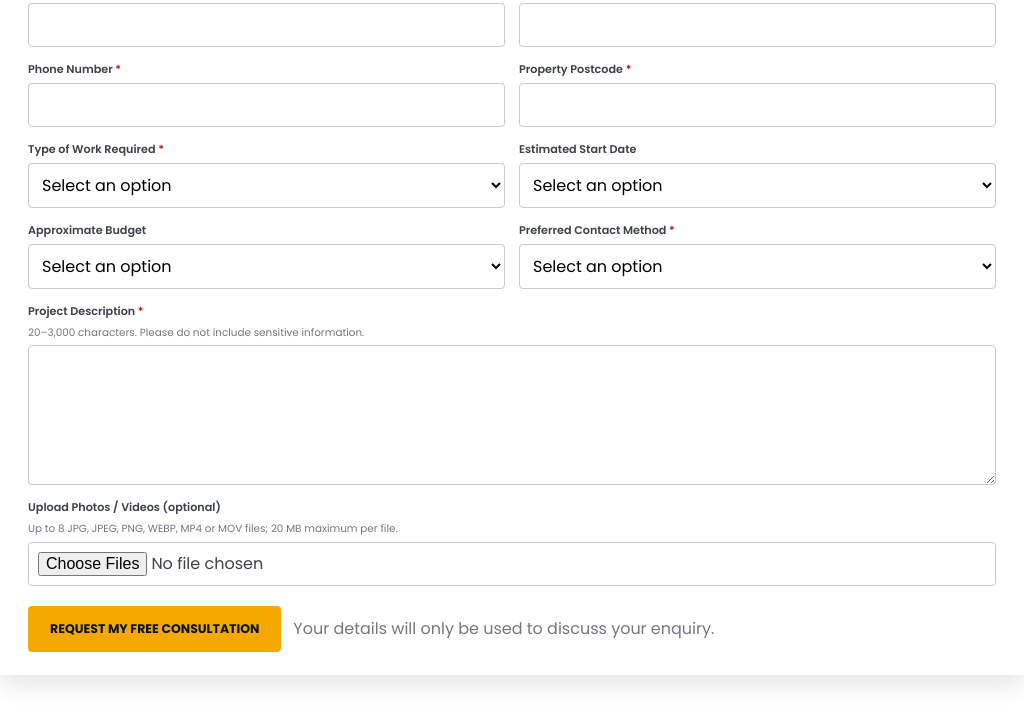
Test: accessible form submission › announces errors
(page scrolled)
What coordinates should you click on to do the following:
click the button
I would click on:
 (155, 629)
Its box is [28,606,281,652].
(page scrolled)
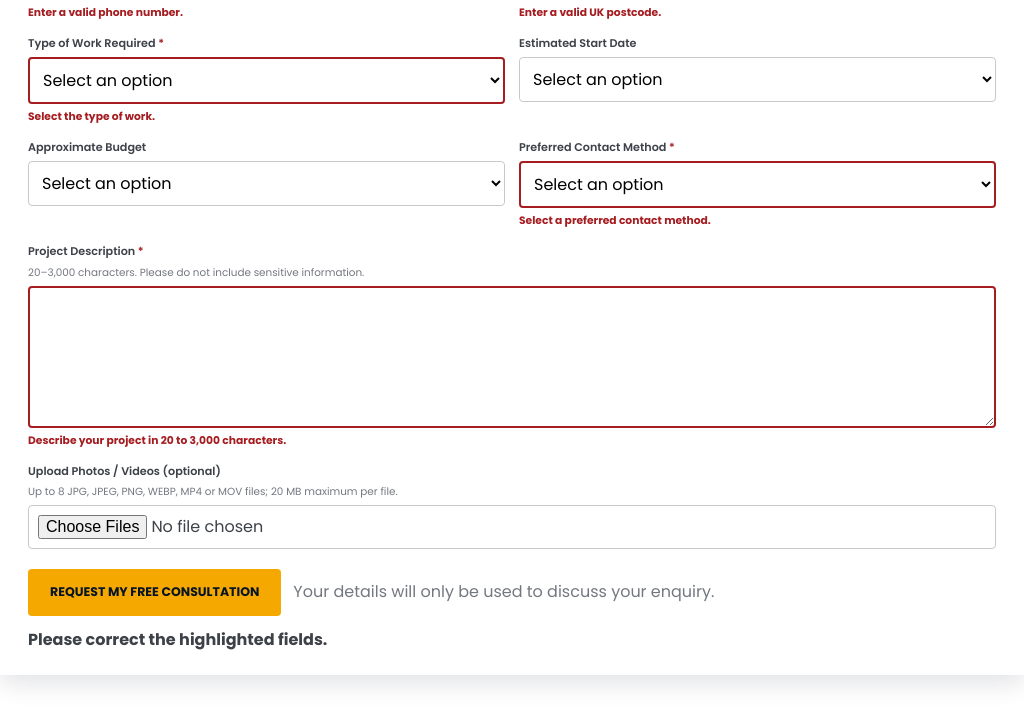
Result: the message shows "correct" at [28,628,327,651]
